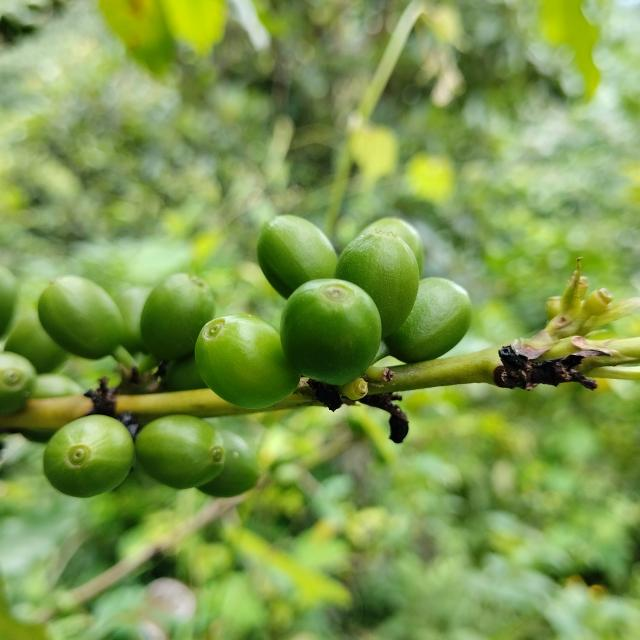green: (280, 279, 382, 386), (194, 314, 300, 409), (335, 230, 420, 338), (42, 415, 134, 498), (385, 278, 472, 363), (37, 275, 123, 359), (134, 415, 225, 490), (257, 215, 338, 299), (140, 273, 215, 360), (360, 217, 424, 276)
